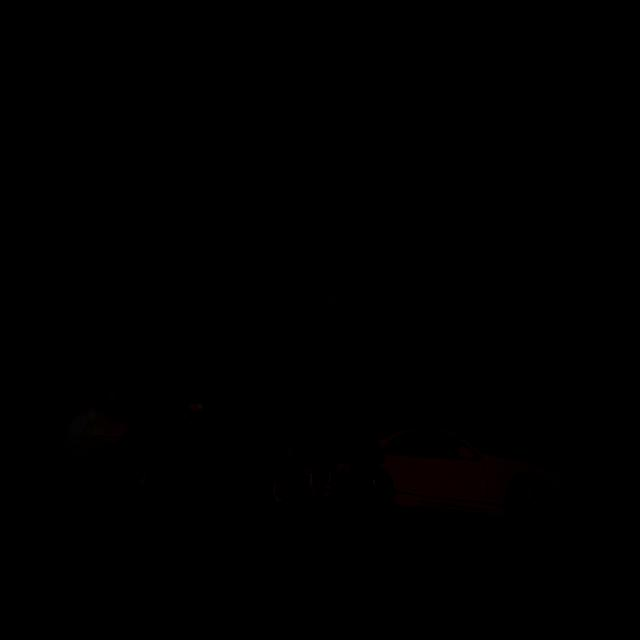Motorbike: (247, 406, 395, 534)
